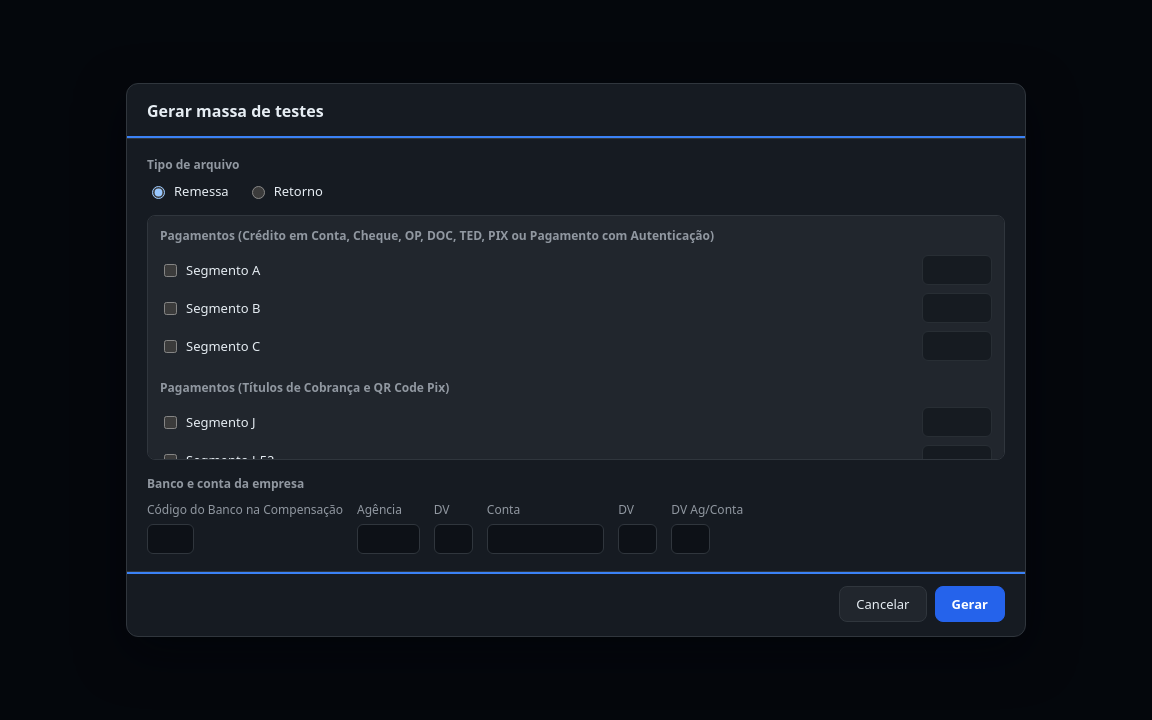
Test case: GeneratorDialog (US1) › quantidade 1.5 é inválida e desabilita Gerar
Click the checkbox with test id "generator-variant-segmento-a-pagamento". click: (170, 270)
box: [164,264,177,277]
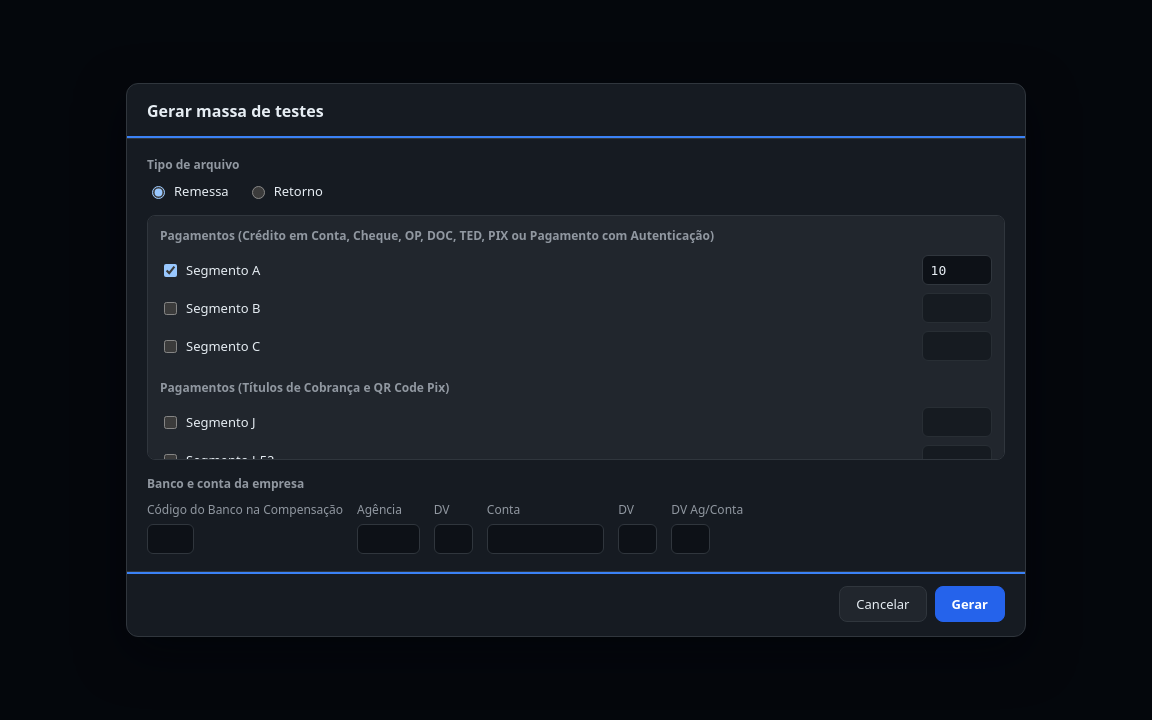
Replace the text in the field with test id "generator-qty-segmento-a-pagamento" with "1.5". click: (957, 270)
box: [922,255,992,285]
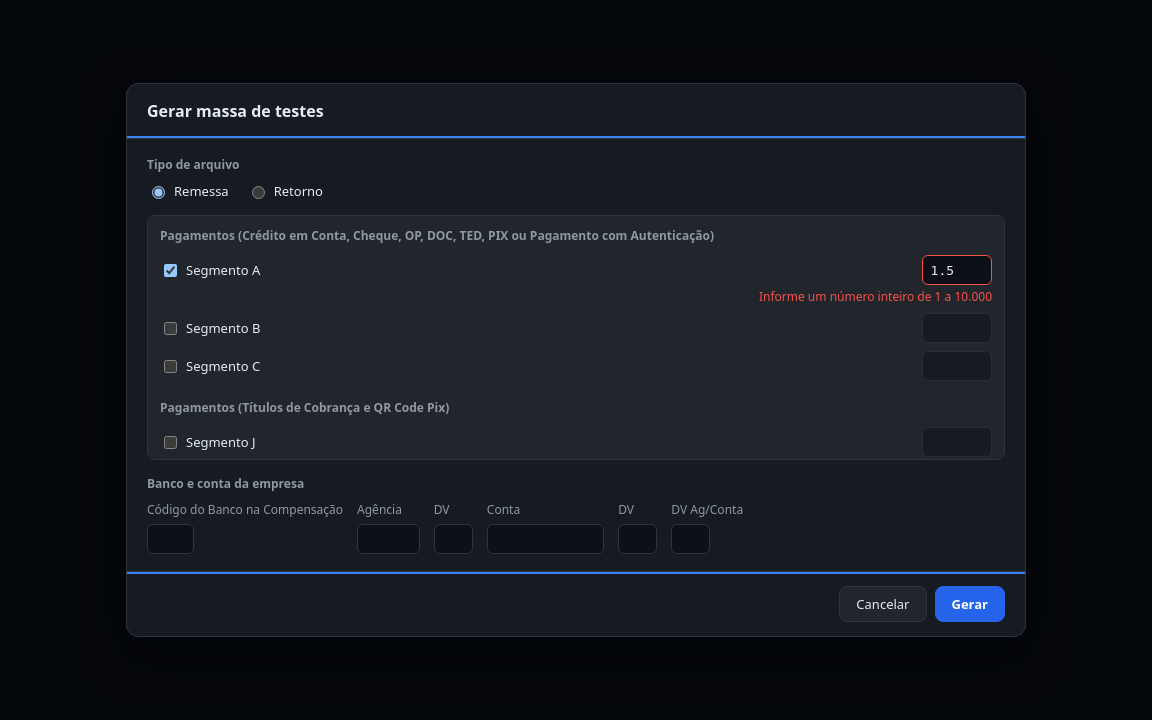
Expected: the button with test id "generator-confirm" is disabled, [934,586,1005,622]
Expected: the text with test id "generator-qty-segmento-a-pagamento-error" reads "Informe um número inteiro de 1 a 10.000", [759,288,992,305]
